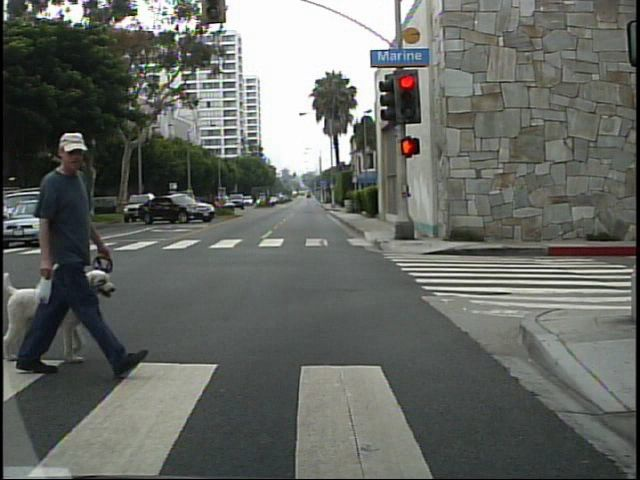person: (16, 114, 135, 382)
